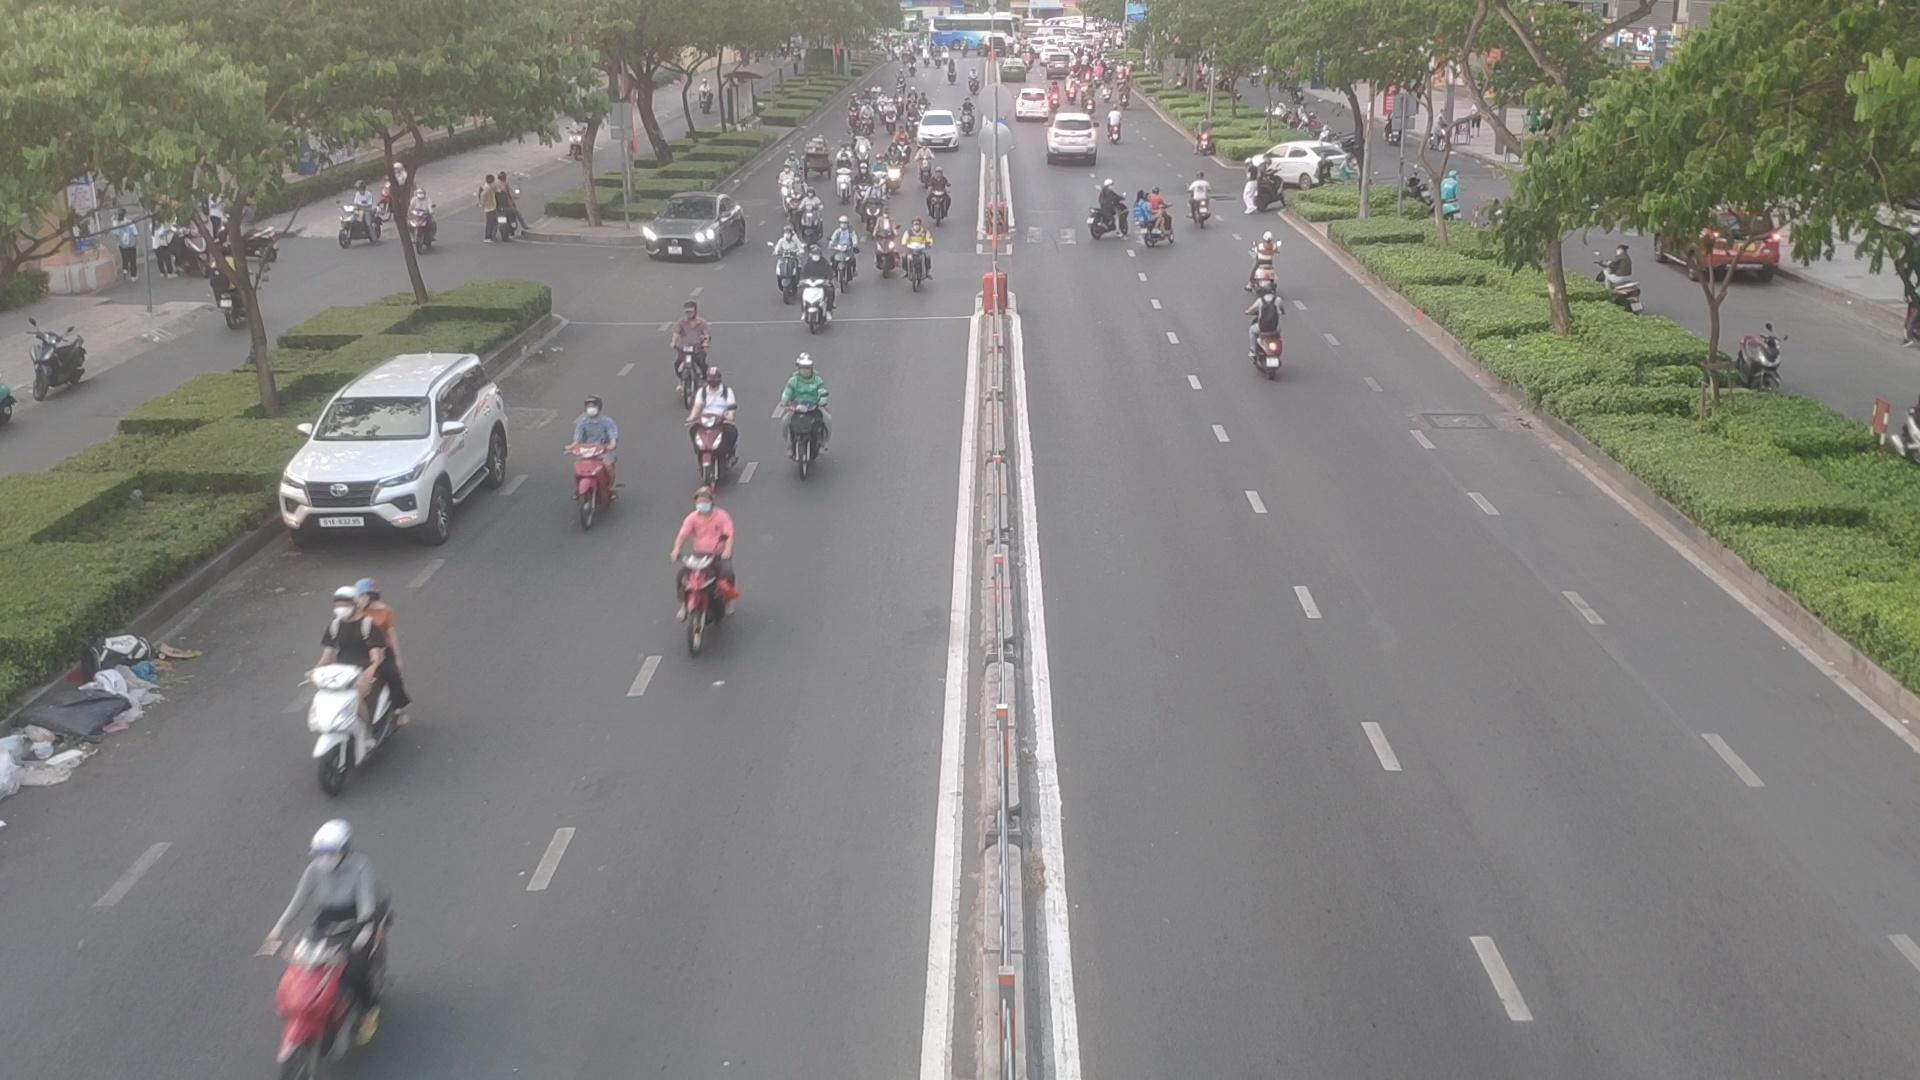car: (276, 348, 517, 539), (636, 193, 749, 262), (1238, 141, 1358, 196), (1043, 116, 1097, 167)
motorbike: (261, 818, 396, 1080), (303, 580, 397, 787), (680, 495, 746, 663), (556, 396, 620, 535), (671, 302, 712, 404), (787, 349, 818, 481), (695, 367, 727, 484), (1245, 284, 1280, 382), (1087, 177, 1133, 241), (898, 227, 939, 293), (1244, 228, 1279, 298), (802, 247, 829, 324), (1142, 185, 1175, 247), (874, 214, 902, 282), (778, 225, 799, 301), (802, 189, 825, 243), (862, 179, 885, 231), (785, 171, 807, 222), (835, 218, 851, 285), (851, 161, 872, 210), (930, 171, 945, 224), (1191, 170, 1205, 225), (916, 142, 932, 193), (775, 160, 790, 211), (894, 127, 913, 164), (856, 132, 872, 174), (885, 148, 898, 189), (836, 160, 847, 207)
